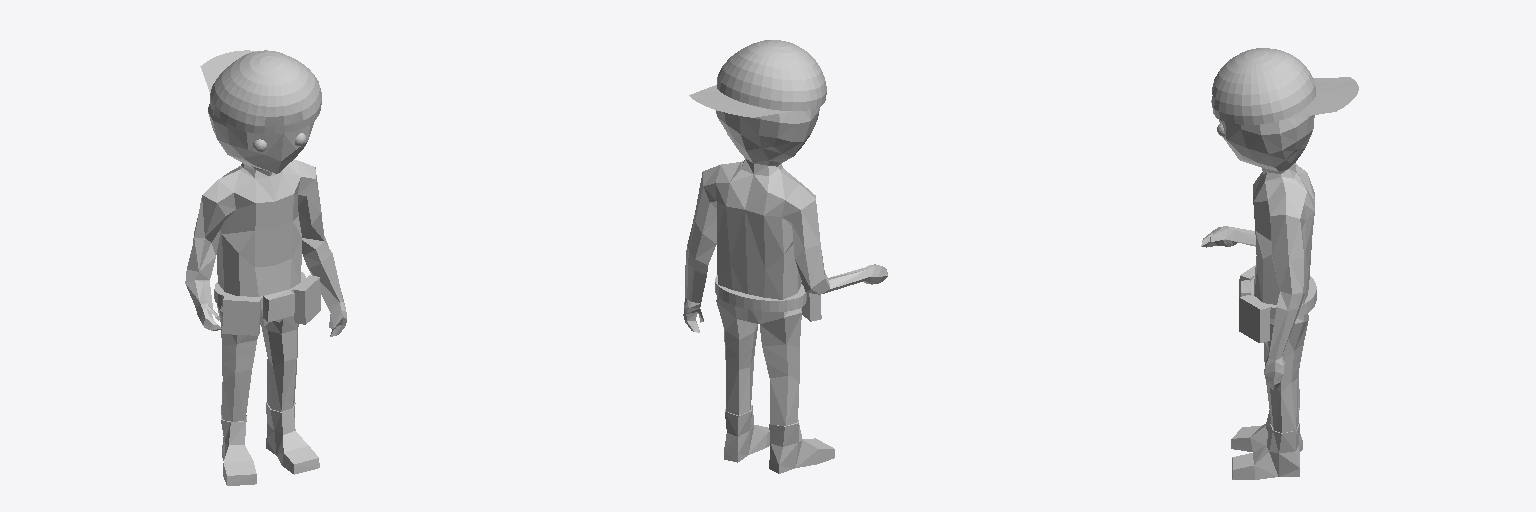
File: Main_Character_Paint_6.obj
The picture shows the model from 3 angles: view 1: azimuth 30°, elevation 25°; view 2: azimuth 150°, elevation 25°; view 3: azimuth 270°, elevation 25°; orthographic projection.
Visible parts, largest first — view 1: Main_Character_Test.003_Main_Character_Test.004; view 2: Main_Character_Test.003_Main_Character_Test.004; view 3: Main_Character_Test.003_Main_Character_Test.004.
Boxes of the visible parts, box(x1,y1,x2,y2) form: Main_Character_Test.003_Main_Character_Test.004: box(185, 50, 346, 485); Main_Character_Test.003_Main_Character_Test.004: box(683, 40, 887, 473); Main_Character_Test.003_Main_Character_Test.004: box(1201, 48, 1358, 479).
Size of the model in its own units: 1.75 by 3.96 by 1.39.